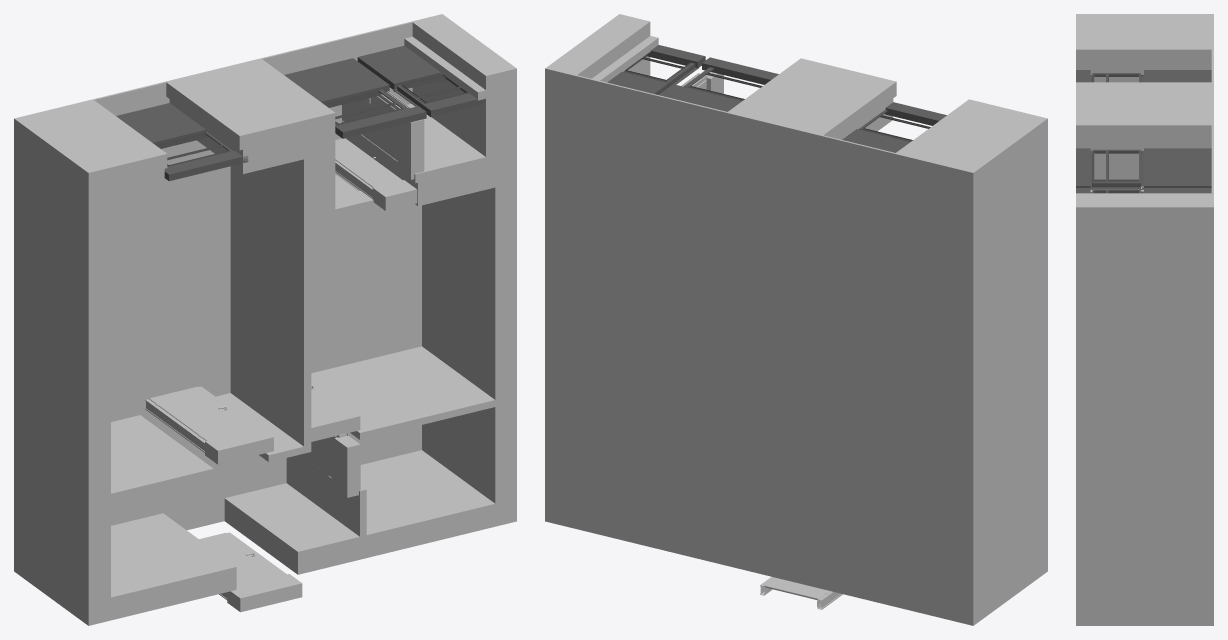
3 views of the same model, side by side, from view 1: azimuth 30°, elevation 25°; view 2: azimuth 150°, elevation 25°; view 3: azimuth 270°, elevation 25° (orthographic). The views are drawn at different scales.
Parts seen in each view (by area): view 1: geometry_0, geometry_2, geometry_3, geometry_1, Door_2, geometry_27, geometry_30, geometry_33, Door_6, Door_4, geometry_24, geometry_12 (+13 smaller); view 2: geometry_3, geometry_2, geometry_1, geometry_0, Door_6, geometry_27, geometry_31, geometry_30, geometry_25, geometry_33, geometry_26, geometry_28; view 3: geometry_0, geometry_1, geometry_2, geometry_27, geometry_3, geometry_25, geometry_30, geometry_26, geometry_33, geometry_28.
Boxes of the visible parts, left/top/right/bottom form: geometry_0: left=224, top=15, right=516, bottom=574; geometry_2: left=15, top=100, right=236, bottom=625; geometry_3: left=14, top=14, right=442, bottom=571; geometry_1: left=166, top=59, right=335, bottom=461; Door_2: left=145, top=386, right=258, bottom=452; geometry_27: left=284, top=58, right=389, bottom=103; geometry_30: left=116, top=103, right=206, bottom=144; geometry_33: left=357, top=45, right=441, bottom=89; Door_6: left=199, top=532, right=286, bottom=600; Door_4: left=335, top=138, right=402, bottom=199; geometry_24: left=227, top=574, right=302, bottom=612; geometry_12: left=205, top=428, right=273, bottom=464; geometry_3: left=545, top=67, right=974, bottom=625; geometry_2: left=896, top=99, right=1047, bottom=624; geometry_1: left=728, top=58, right=896, bottom=139; geometry_0: left=546, top=14, right=658, bottom=82; Door_6: left=760, top=576, right=842, bottom=609; geometry_27: left=659, top=84, right=741, bottom=111; geometry_31: left=624, top=52, right=698, bottom=86; geometry_30: left=842, top=129, right=910, bottom=152; geometry_25: left=683, top=67, right=768, bottom=100; geometry_33: left=607, top=71, right=668, bottom=94; geometry_26: left=702, top=57, right=778, bottom=81; geometry_28: left=859, top=110, right=936, bottom=141; geometry_0: left=1076, top=193, right=1211, bottom=625; geometry_1: left=1076, top=82, right=1211, bottom=179; geometry_2: left=1076, top=14, right=1211, bottom=82; geometry_27: left=1144, top=148, right=1211, bottom=187; geometry_3: left=1211, top=14, right=1213, bottom=625; geometry_25: left=1090, top=149, right=1143, bottom=189; geometry_30: left=1144, top=70, right=1211, bottom=82; geometry_26: left=1076, top=148, right=1090, bottom=187; geometry_33: left=1144, top=188, right=1211, bottom=193; geometry_28: left=1090, top=73, right=1143, bottom=82.
Bounding box in the file's own units: 67.4 × 71.75 × 20.3.
